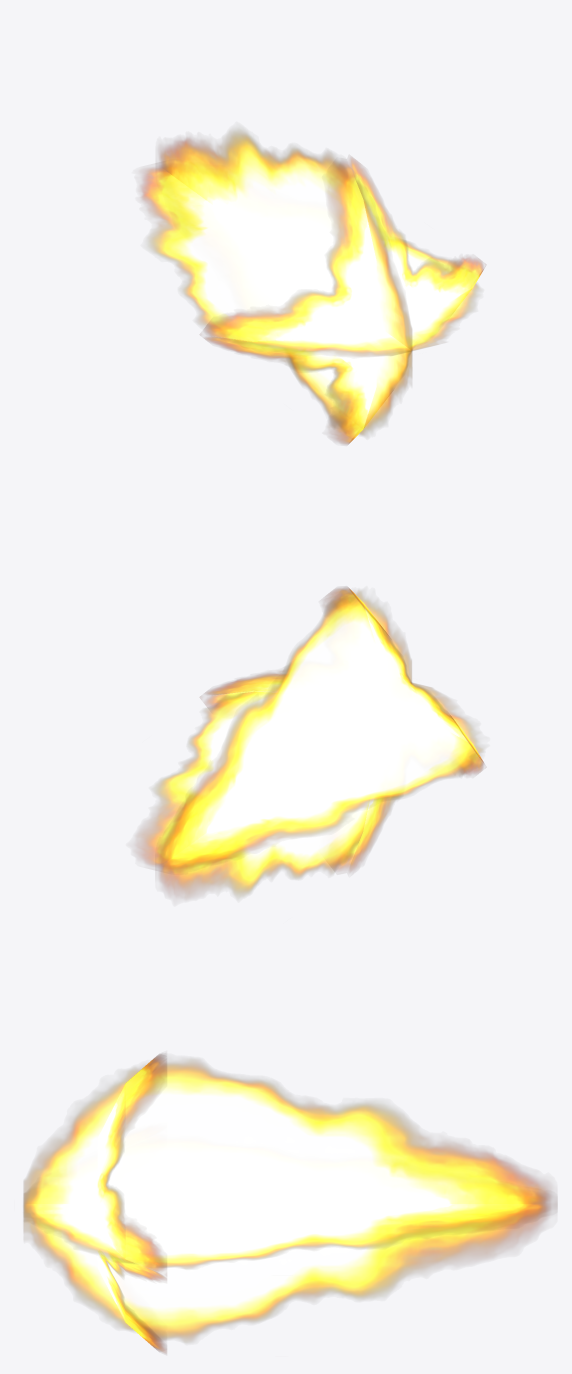
The picture shows the model from 3 angles, top to bottom: view 1: azimuth 30°, elevation 25°; view 2: azimuth 150°, elevation 25°; view 3: azimuth 270°, elevation 25°; orthographic projection. The views are drawn at different scales.
Visible parts, largest first — view 1: cube11, sphere10, cube11_copy12; view 2: cube11, cube11_copy12, sphere10; view 3: cube11, cube11_copy12, sphere10.
Part boxes in pixels (left/top/right/bottom): cube11: left=159, top=129, right=412, bottom=435; sphere10: left=204, top=157, right=483, bottom=444; cube11_copy12: left=140, top=166, right=479, bottom=356; cube11: left=159, top=591, right=411, bottom=898; cube11_copy12: left=136, top=683, right=482, bottom=870; sphere10: left=200, top=587, right=484, bottom=871; cube11: left=24, top=1059, right=550, bottom=1342; cube11_copy12: left=24, top=1188, right=549, bottom=1268; sphere10: left=97, top=1054, right=166, bottom=1353.
Bounding box in the file's own units: 1.85 × 1.85 × 2.91.
Materials: 1 (1 with a texture image).
